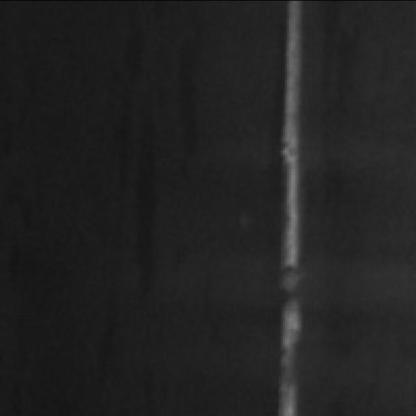scratches: (277, 0, 320, 291), (272, 289, 314, 412)
